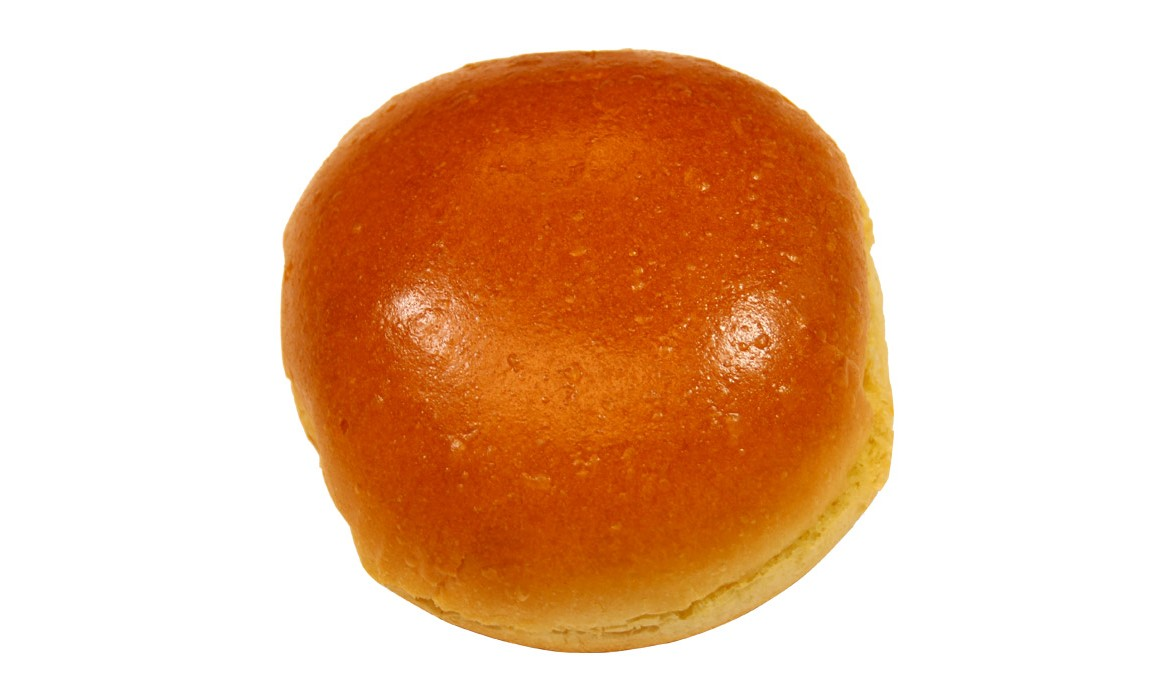hamburger_buns: (260, 36, 953, 680)
